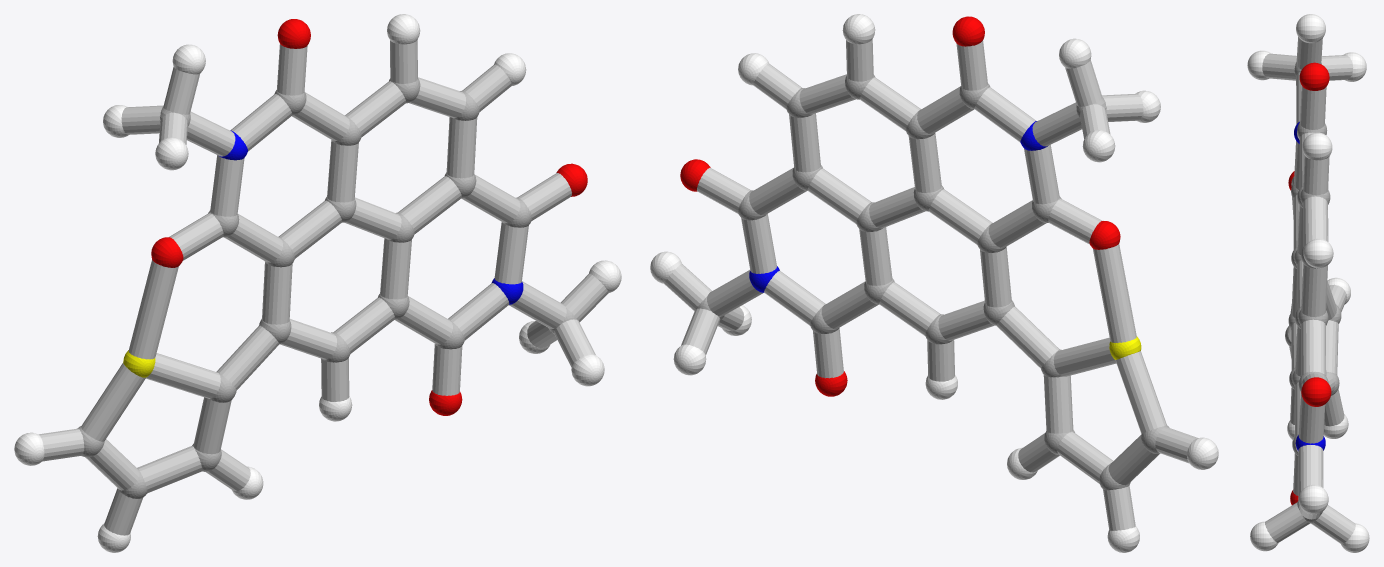
Rendered from Dimethyl_Naphthalene_Dicarboximide_Phi_15_Theta_180_Thiophene.glb.
3 renders of one model, left to right at view 1: azimuth 30°, elevation 25°; view 2: azimuth 150°, elevation 25°; view 3: azimuth 270°, elevation 25°, orthographic. The views are drawn at different scales.
Visible parts, largest first — view 1: grp14119, grp7241, grp1, grp12309, grp11585; view 2: grp14119, grp7241, grp1, grp12309, grp11585; view 3: grp14119, grp7241, grp1, grp12309, grp11585.
Boxes of the visible parts, bbox=[...] form: grp14119: bbox=[39, 40, 608, 535]; grp7241: bbox=[14, 14, 621, 552]; grp1: bbox=[77, 78, 577, 498]; grp12309: bbox=[151, 19, 587, 415]; grp11585: bbox=[219, 130, 523, 304]; grp14119: bbox=[664, 39, 1198, 530]; grp7241: bbox=[650, 14, 1218, 552]; grp1: bbox=[696, 74, 1169, 490]; grp12309: bbox=[680, 16, 1120, 396]; grp11585: bbox=[749, 121, 1047, 292]; grp14119: bbox=[1262, 36, 1355, 543]; grp7241: bbox=[1247, 14, 1369, 552]; grp1: bbox=[1285, 62, 1341, 523]; grp12309: bbox=[1288, 62, 1331, 504]; grp11585: bbox=[1294, 121, 1325, 450].
Size of the model in its own units: 12.27 by 9.92 by 2.44.
